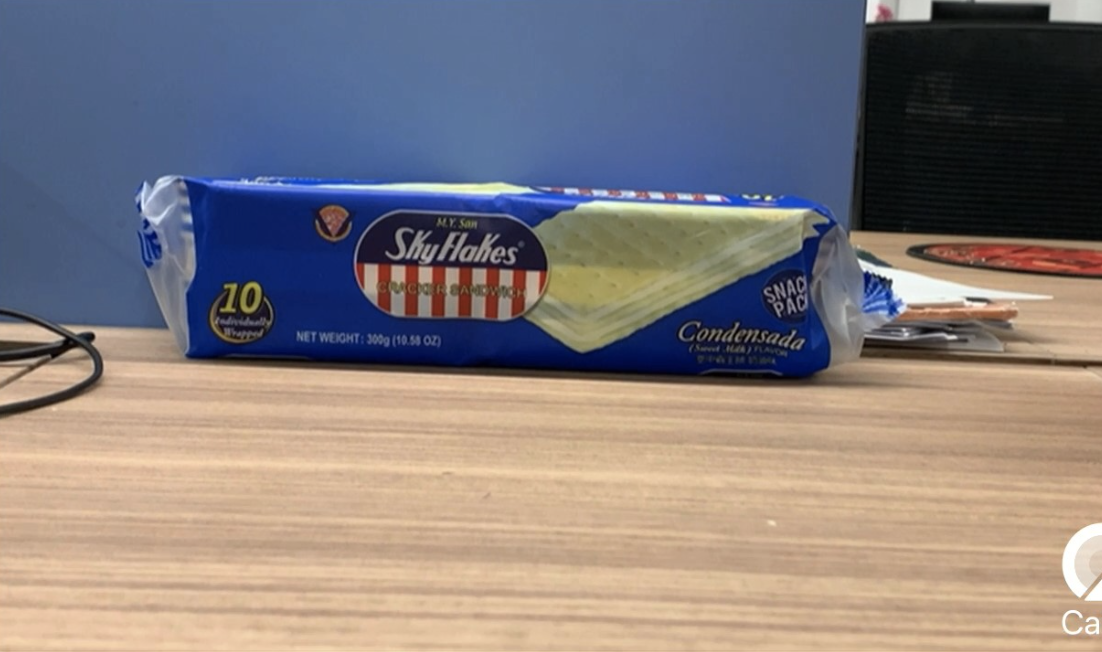crackers_150g: (194, 193, 841, 352)
